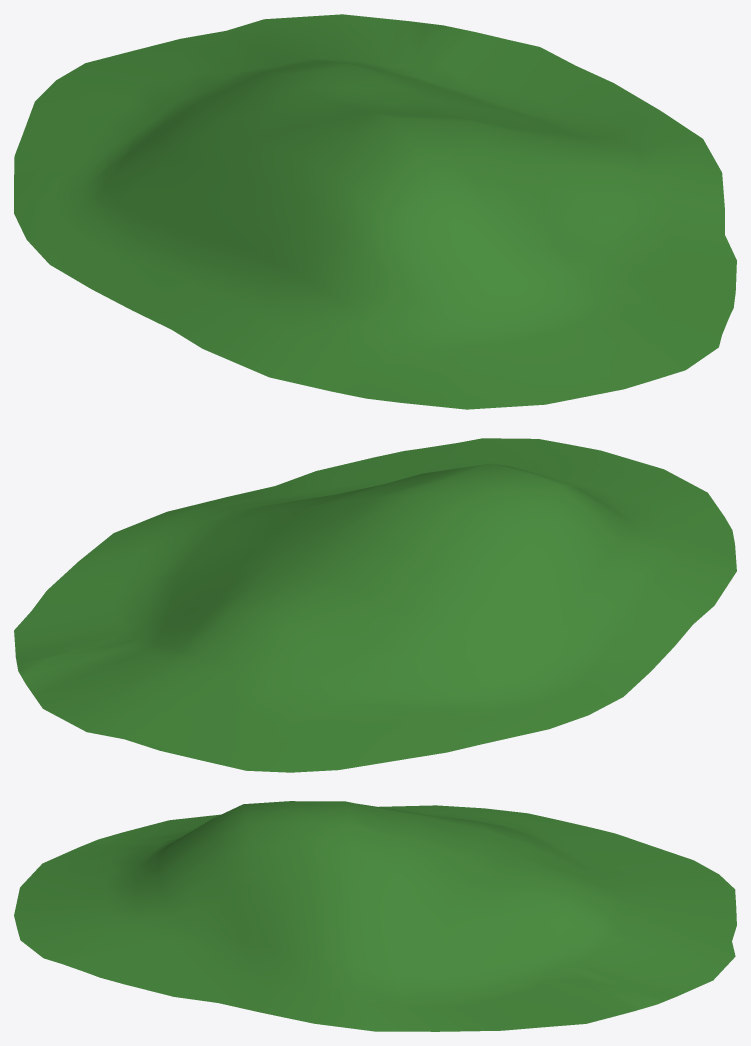
Rendered from Relevo2.fbx.
3 renders of one model, top to bottom at view 1: azimuth 30°, elevation 25°; view 2: azimuth 150°, elevation 25°; view 3: azimuth 270°, elevation 25°, orthographic. The views are drawn at different scales.
Visible parts, largest first — view 1: Relevo2; view 2: Relevo2; view 3: Relevo2.
Boxes of the visible parts, <box> form: Relevo2: <box>14,14,736,409</box>; Relevo2: <box>14,438,736,772</box>; Relevo2: <box>14,801,736,1031</box>.
Bounding box in the file's own units: 1251 × 226 × 1660.
